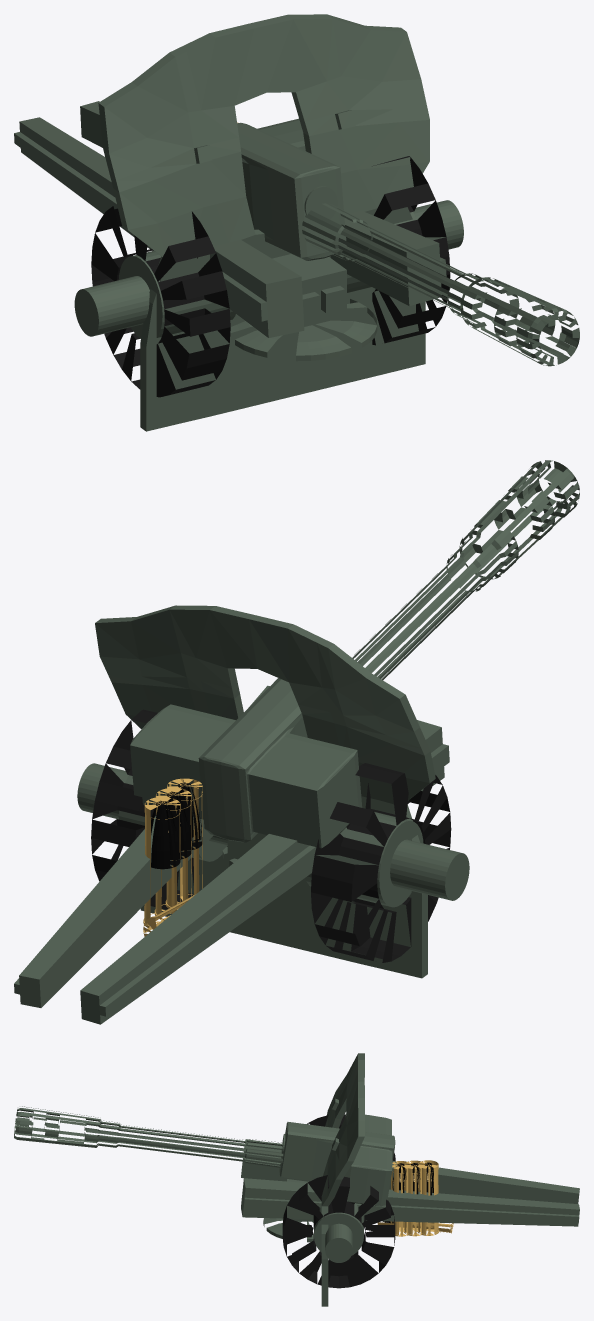
Rendered from howitzer.glb.
3 views of the same model, one above another, from view 1: azimuth 30°, elevation 25°; view 2: azimuth 150°, elevation 25°; view 3: azimuth 270°, elevation 25° (orthographic). The views are drawn at different scales.
Visible parts, largest first — view 1: Plane, tire, Cube.001, Circle.001, Cube.003, Cube, wheel_disk.002, tire.001, Circle, Cube.002, wheel_disk, Cylinder; view 2: Plane, Cube.003, Cube.001, tire, Circle.001, Cube, wheel_disk.002, tire.001, wheel_disk, shell_middle.002, shell_bottom, shell_bottom.002 (+4 smaller); view 3: Cube, tire.001, Circle.001, Cube.003, Plane, Cube.001, wheel_disk.001, wheel_disk.002, shell_bottom.002, shell_bottom.001, shell_bottom, Circle.
Boxes of the visible parts, bbox=[...] form: Plane: bbox=[98, 14, 429, 431]; tire: bbox=[91, 206, 230, 397]; Cube.001: bbox=[14, 117, 304, 337]; Circle.001: bbox=[302, 203, 579, 366]; Cube.003: bbox=[237, 118, 346, 260]; Cube: bbox=[80, 101, 446, 306]; wheel_disk.002: bbox=[74, 200, 463, 336]; tire.001: bbox=[372, 156, 450, 345]; Circle: bbox=[230, 299, 377, 361]; Cube.002: bbox=[272, 254, 346, 326]; wheel_disk: bbox=[118, 250, 235, 338]; Cylinder: bbox=[304, 186, 337, 223]; Plane: bbox=[95, 605, 435, 978]; Cube.003: bbox=[130, 678, 362, 848]; Cube.001: bbox=[80, 720, 449, 1024]; tire: bbox=[311, 763, 451, 962]; Circle.001: bbox=[352, 460, 579, 679]; Cube: bbox=[14, 685, 269, 1007]; wheel_disk.002: bbox=[77, 763, 469, 900]; tire.001: bbox=[91, 709, 193, 909]; wheel_disk: bbox=[305, 812, 423, 907]; shell_middle.002: bbox=[151, 801, 180, 869]; shell_bottom: bbox=[165, 778, 202, 909]; shell_bottom.002: bbox=[143, 797, 180, 929]; Cube: bbox=[241, 1178, 579, 1226]; tire.001: bbox=[282, 1175, 395, 1288]; Circle.001: bbox=[14, 1106, 283, 1168]; Cube.003: bbox=[279, 1114, 395, 1205]; Plane: bbox=[321, 1053, 364, 1306]; Cube.001: bbox=[241, 1139, 579, 1203]; wheel_disk.001: bbox=[314, 1203, 363, 1255]; wheel_disk.002: bbox=[325, 1223, 352, 1262]; shell_bottom.002: bbox=[417, 1160, 439, 1235]; shell_bottom.001: bbox=[404, 1160, 424, 1236]; shell_bottom: bbox=[390, 1161, 410, 1236]; Circle: bbox=[263, 1218, 313, 1242].
Size of what is drawn, in the model's own units: 2.86 by 2.6 by 6.75.
